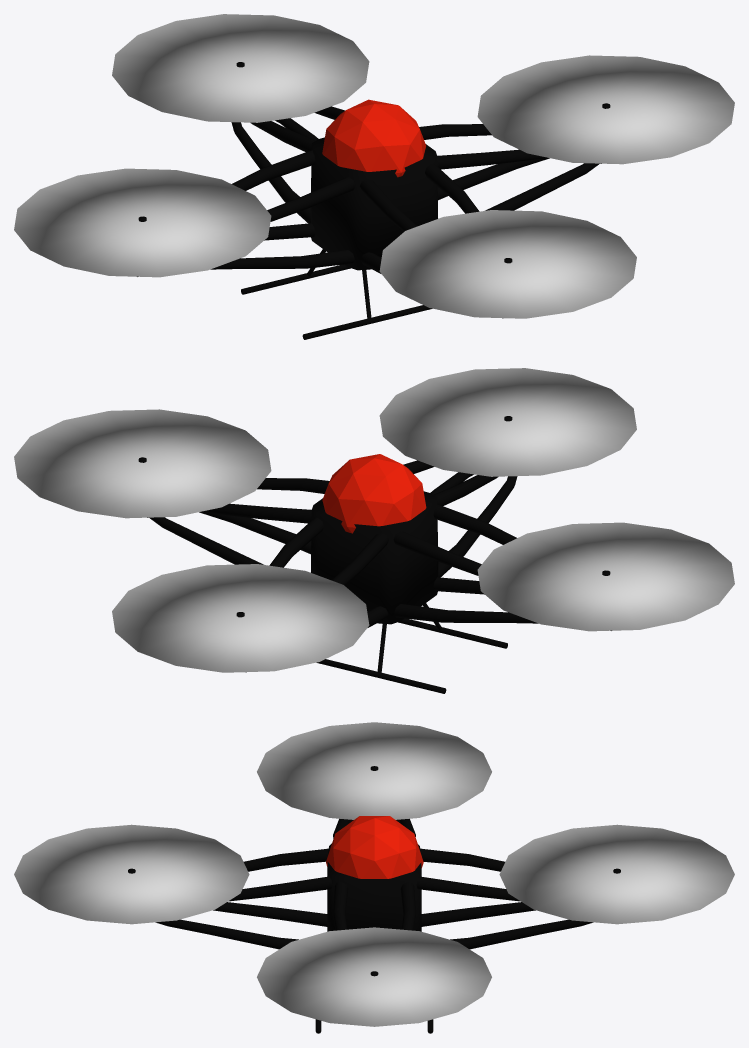
File: RedWasp.dae
3 renders of one model, top to bottom at view 1: azimuth 30°, elevation 25°; view 2: azimuth 150°, elevation 25°; view 3: azimuth 270°, elevation 25°, orthographic. The views are drawn at different scales.
Parts seen in each view (by area): view 1: SM_Quadrotor, Icosphere; view 2: SM_Quadrotor, Icosphere; view 3: SM_Quadrotor, Icosphere.
Boxes of the visible parts, bbox=[...] form: SM_Quadrotor: bbox=[14, 14, 734, 339]; Icosphere: bbox=[322, 99, 425, 177]; SM_Quadrotor: bbox=[14, 368, 734, 693]; Icosphere: bbox=[322, 454, 426, 533]; SM_Quadrotor: bbox=[14, 722, 734, 1033]; Icosphere: bbox=[326, 816, 423, 878].
Bounding box in the file's own units: 0.5097 × 0.5097 × 0.1333.
